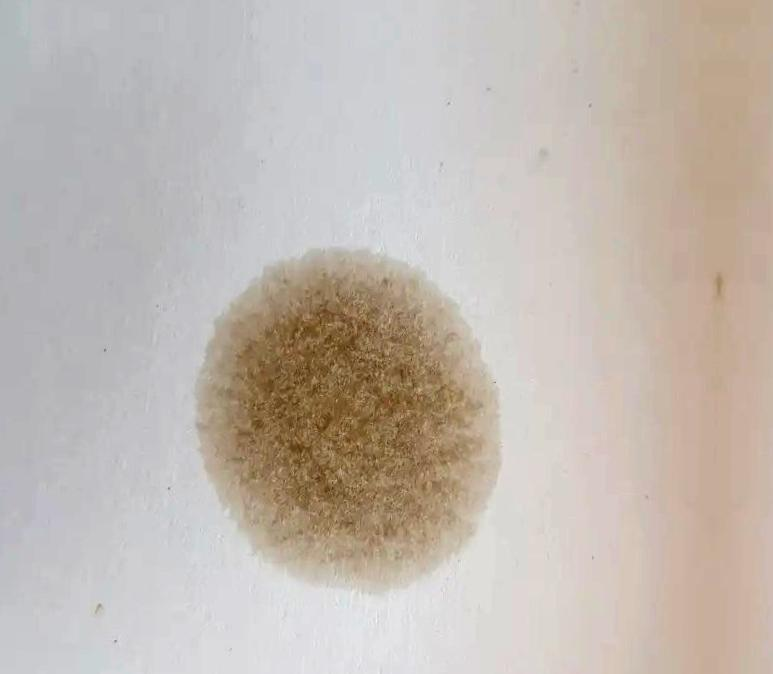stain: (191, 244, 499, 602)
